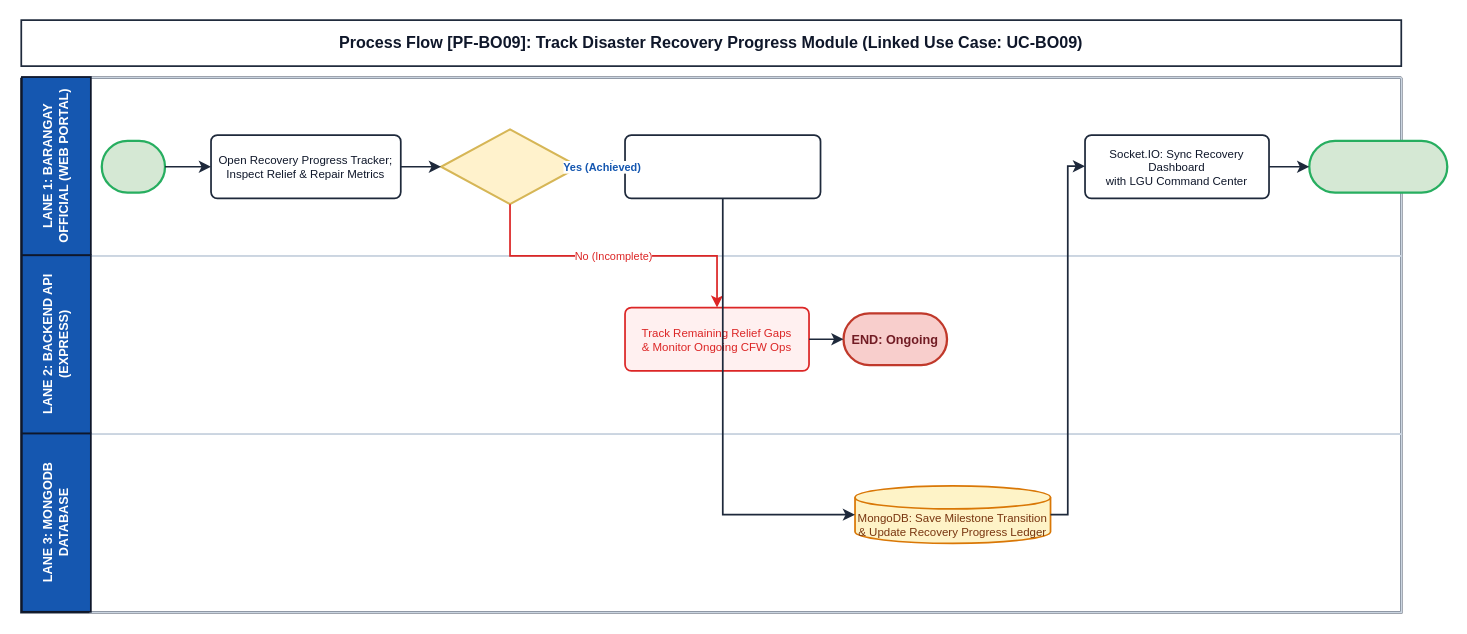
Some shapes in this 1467 by 634 pixel diagram are drawn without their labels. Each missing label, with the centre of its shape:
"END: Phase Advanced" belongs at point (1378, 166).
"Phase Targets Achieved?" belongs at point (509, 166).
"PUT /api/recovery/:householdId Advance Recovery Phase Milestone" belongs at point (722, 166).
"START" belongs at point (133, 166).
